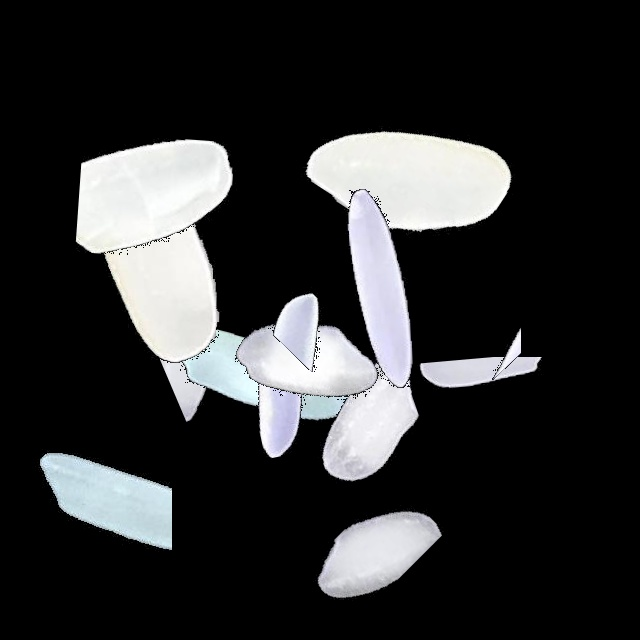Broken: (40, 112, 290, 286), (2, 377, 172, 627), (217, 443, 467, 601), (160, 221, 289, 471), (371, 357, 621, 485), (236, 295, 348, 545), (219, 271, 469, 382), (421, 205, 521, 455), (197, 474, 447, 549)
Full: (130, 246, 380, 496), (32, 145, 282, 395), (242, 293, 492, 543), (284, 50, 534, 300), (184, 238, 434, 488), (253, 164, 503, 414)
